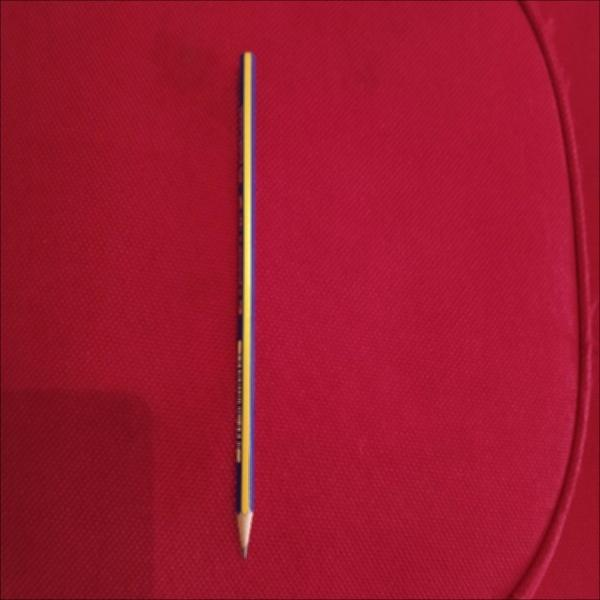pencil: (234, 46, 263, 565)
